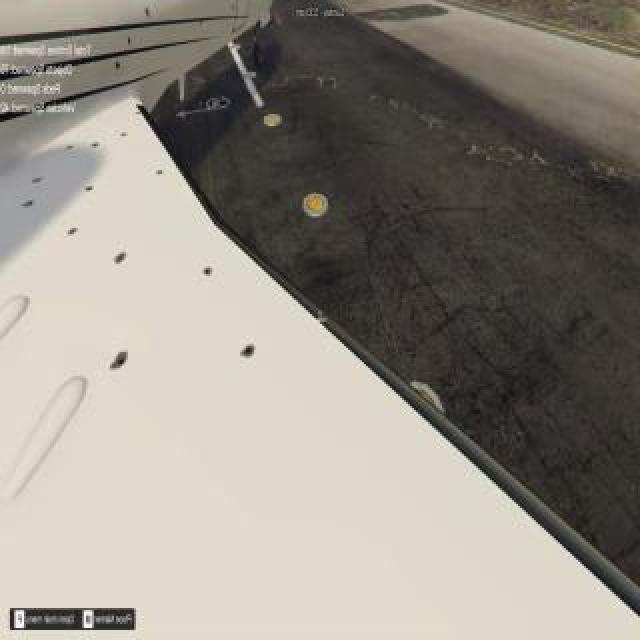crack: (108, 340, 134, 378), (237, 334, 257, 366), (112, 242, 132, 268), (22, 191, 36, 213), (66, 221, 80, 241), (82, 183, 98, 199), (89, 136, 101, 156), (31, 169, 43, 187), (64, 136, 74, 156), (202, 265, 214, 281), (154, 166, 166, 182), (116, 129, 130, 141), (114, 58, 122, 74), (127, 34, 135, 50), (144, 7, 152, 21), (131, 110, 143, 118), (198, 19, 206, 27)
